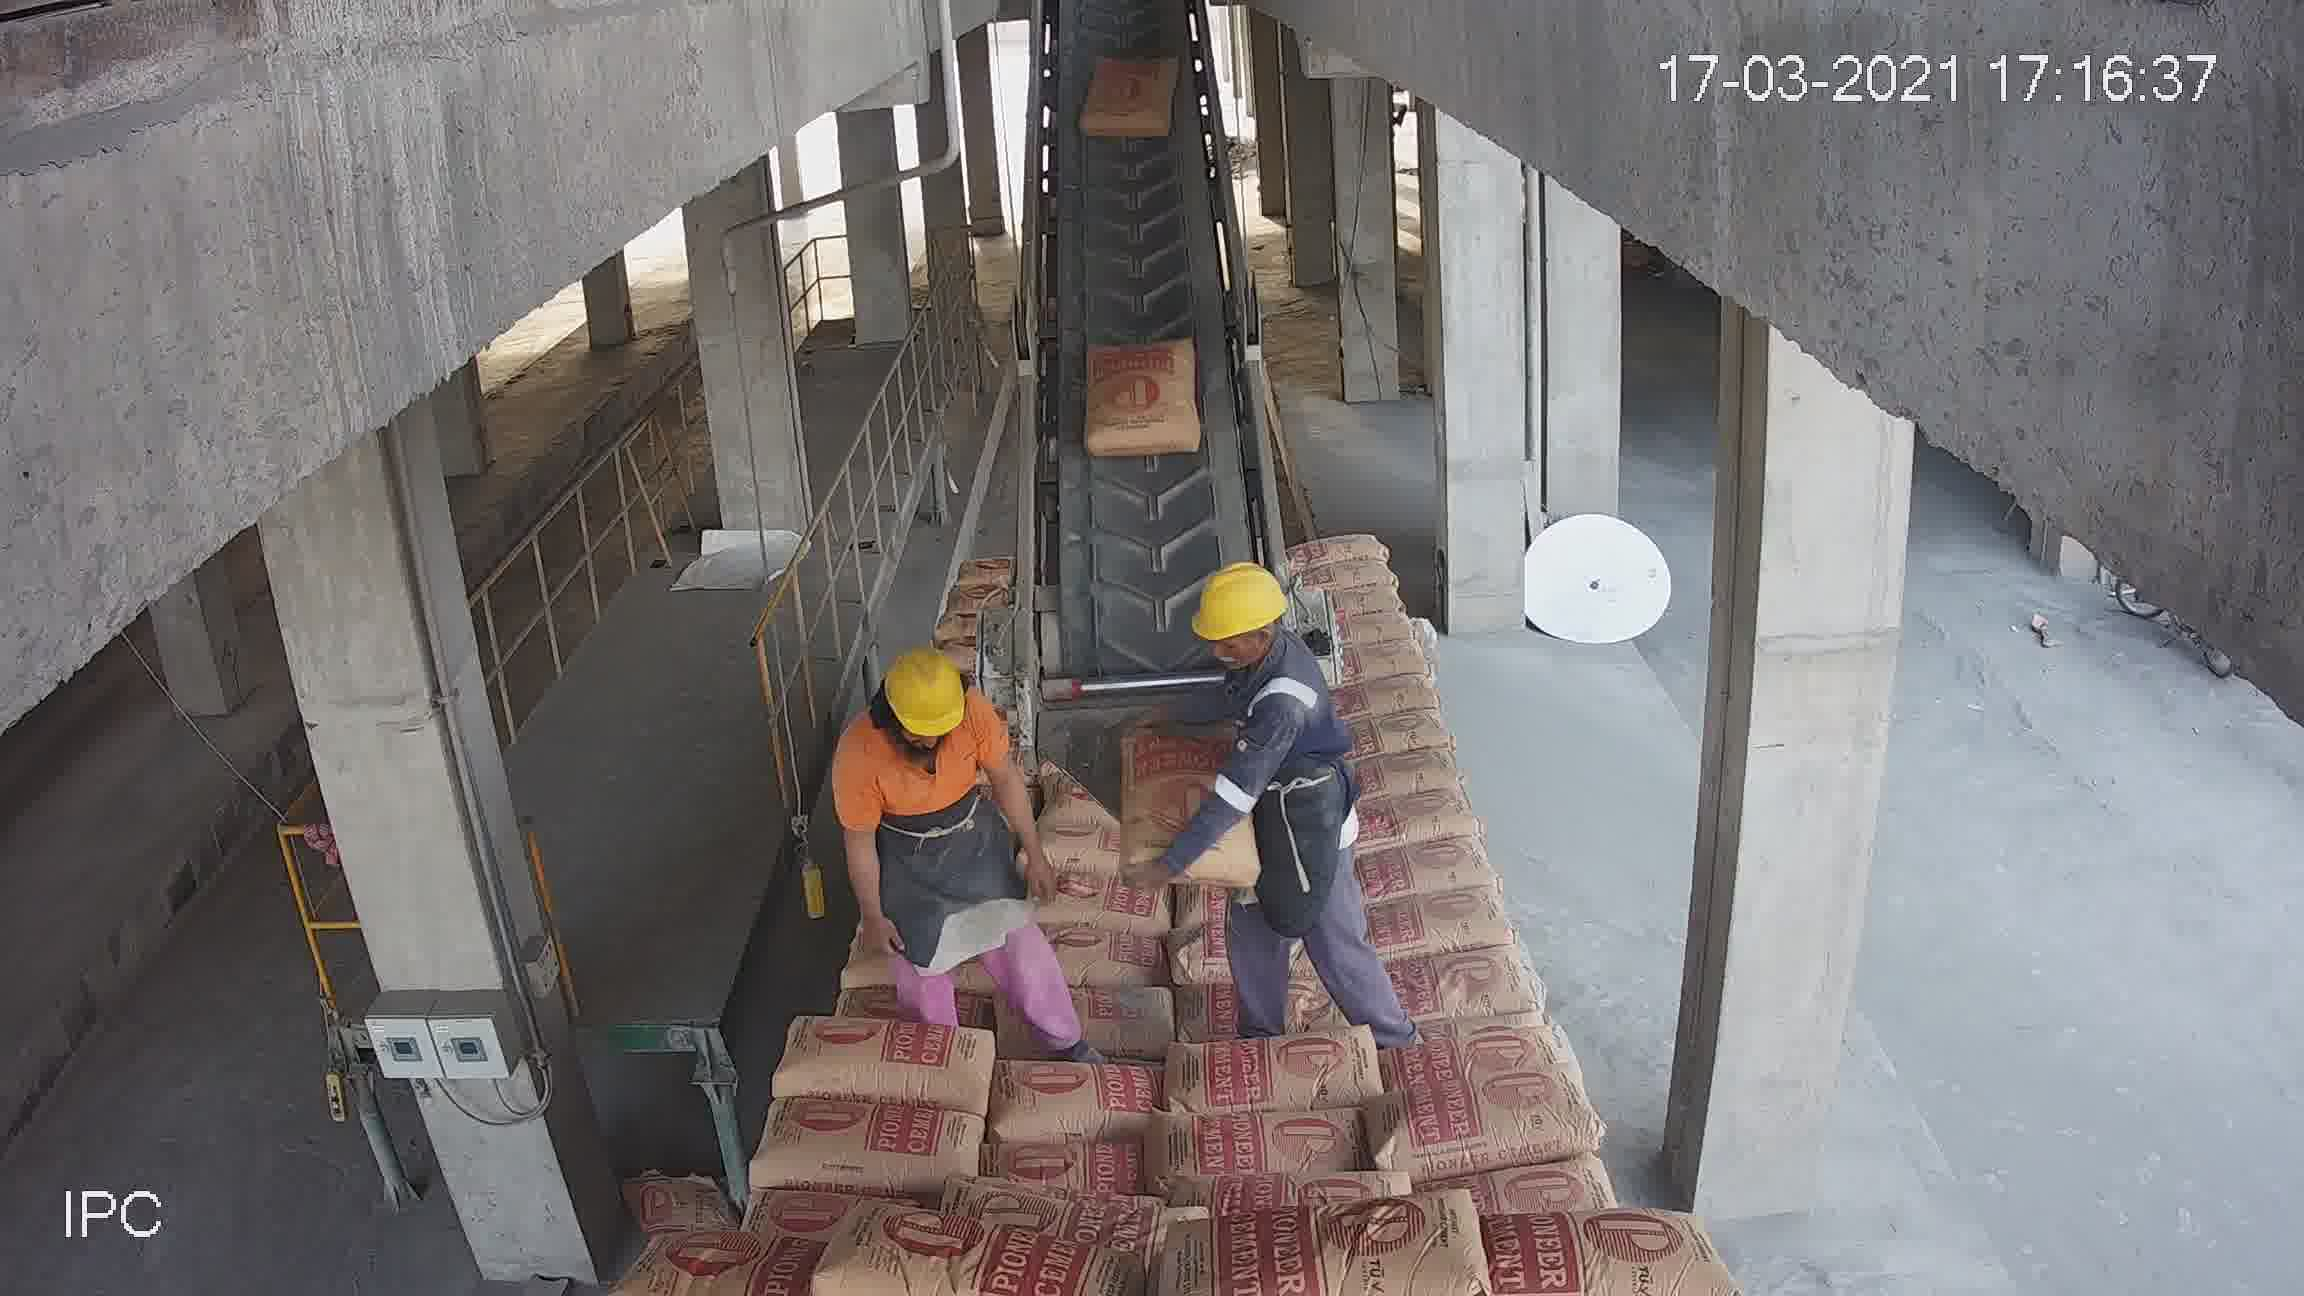bag: (1079, 335, 1204, 456), (1079, 47, 1182, 139)
bag_h: (1180, 1177, 1521, 1294), (788, 1215, 1128, 1296), (1446, 1203, 1714, 1296), (748, 1100, 994, 1196), (1375, 1079, 1586, 1192), (1147, 1097, 1374, 1192), (1361, 1029, 1586, 1119), (771, 1017, 987, 1105), (1185, 1014, 1393, 1101), (989, 975, 1180, 1059), (965, 1067, 1173, 1136), (636, 1228, 845, 1294), (1389, 949, 1540, 1032), (1380, 885, 1529, 965), (1358, 829, 1495, 907), (1027, 864, 1166, 937), (1048, 905, 1177, 981), (1348, 728, 1465, 805), (1003, 1139, 1149, 1196), (1334, 695, 1454, 758), (1348, 790, 1473, 850), (1288, 533, 1396, 571), (1301, 557, 1402, 597)
bag_v: (1124, 707, 1253, 897)
belt: (989, 52, 1287, 809)
